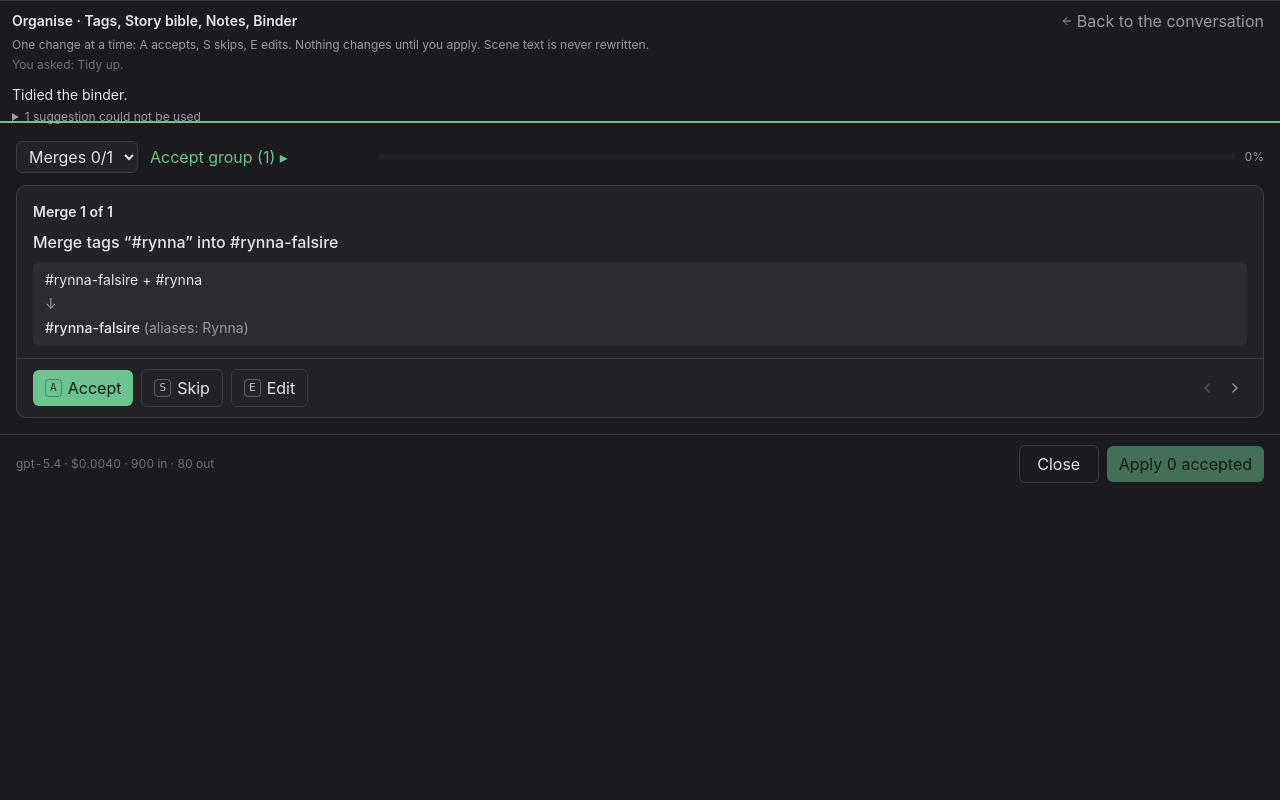
OrganisePanel (F-9.10, one decision at a time) › edits a merge before accepting it: another keeper
Type keys "e"
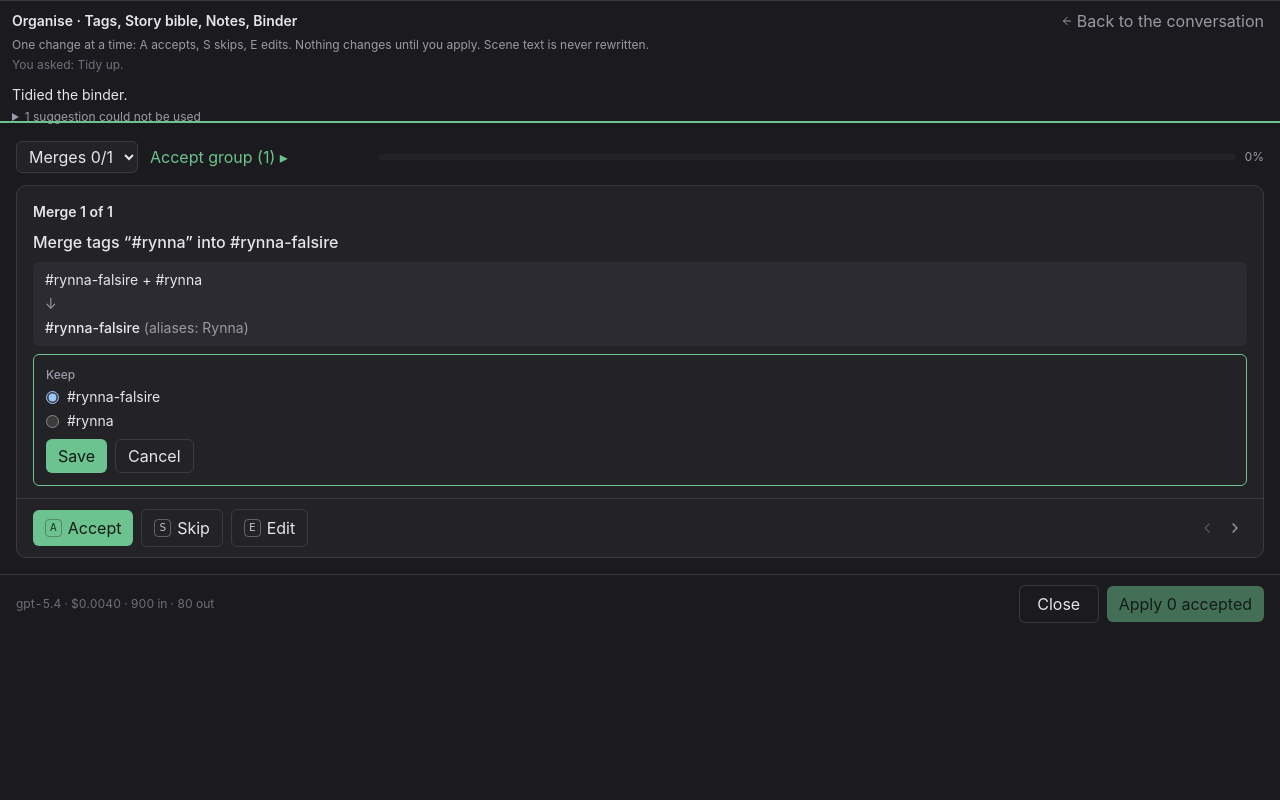
Click the radio button labelled "#rynna".
click(52, 421)  # box [46, 414, 59, 428]
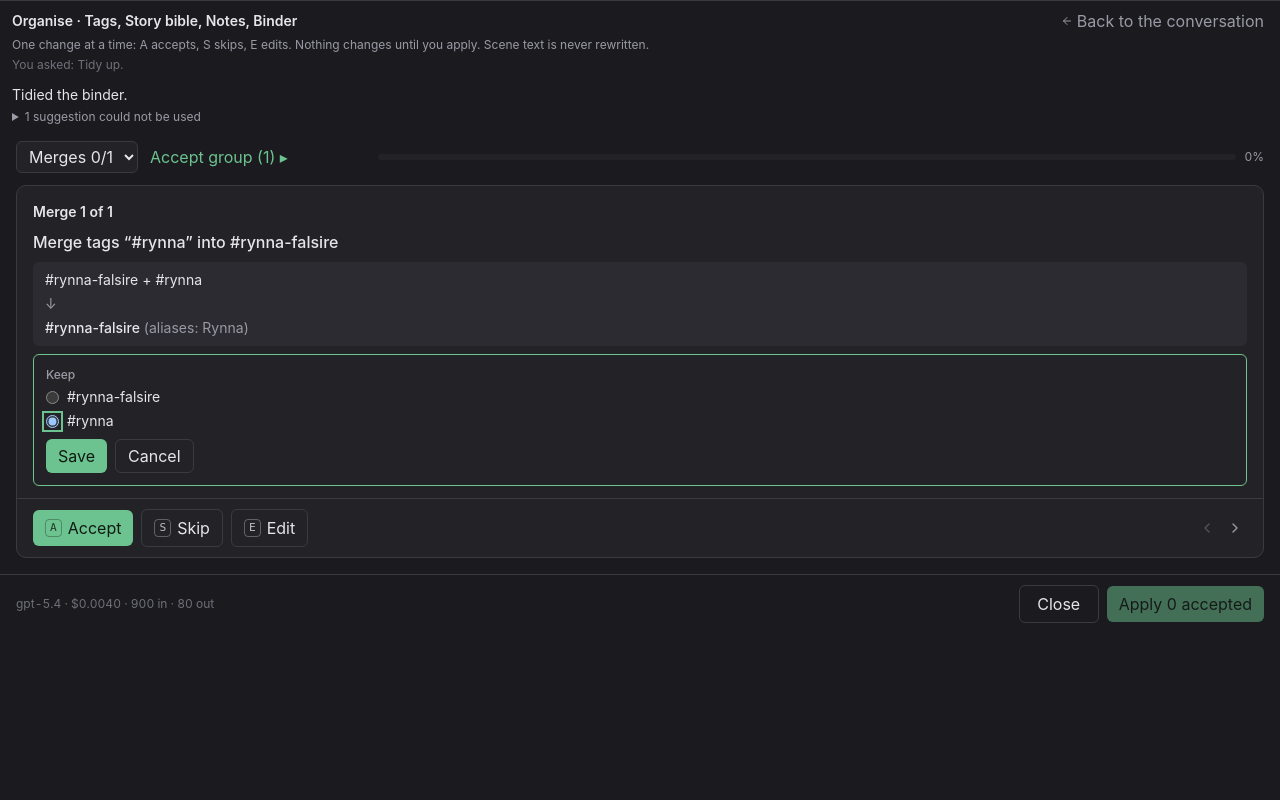
Click the button "Save".
click(76, 456)  # box [46, 439, 107, 473]
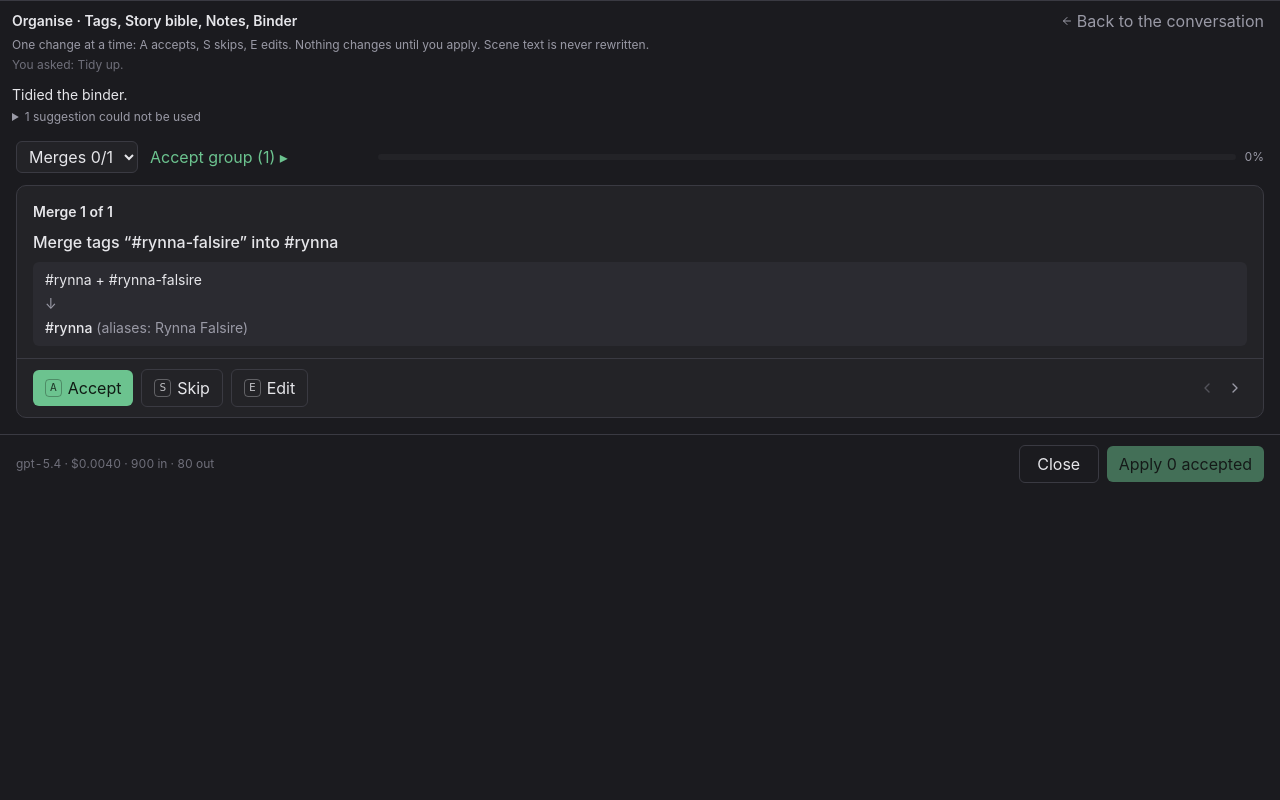
Expected: the text "Merge tags “#rynna-falsire” into #rynna" is shown, [33, 232, 338, 252]
Expected: the form with test id "organise-edit" is gone
